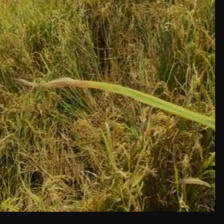Leaf_Blast: (12, 62, 160, 110)
